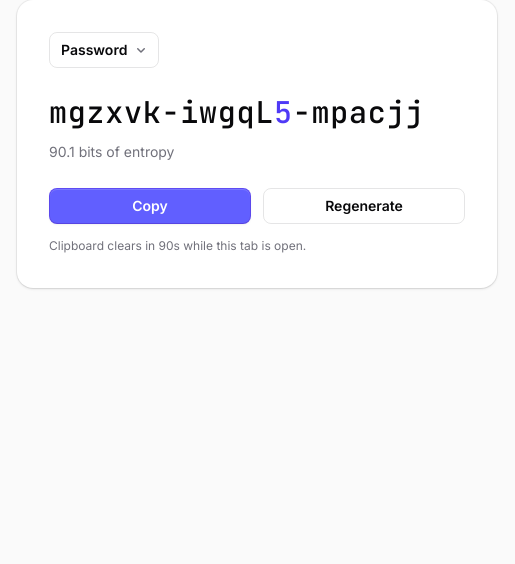
Scenario: GeneratorCard — Custom Password and Memorable controls › removes the option controls for Password
The image size is (515, 564).
Click the button with aria-label "Format:".
click(104, 50)  # box top-left (49, 32), bottom-right (159, 68)
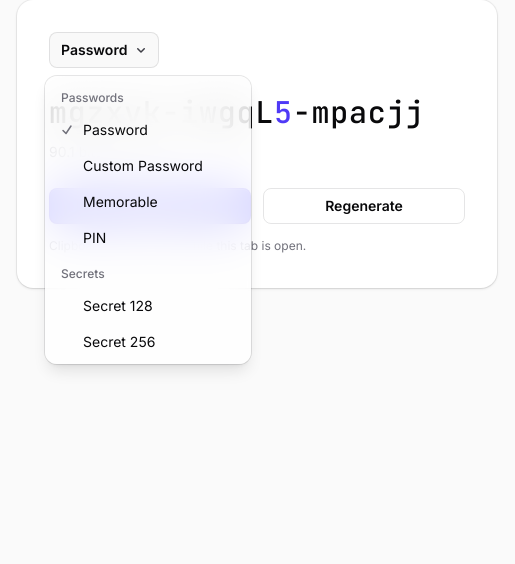
Click the menu item "Custom Password".
click(148, 166)  # box top-left (49, 148), bottom-right (247, 184)
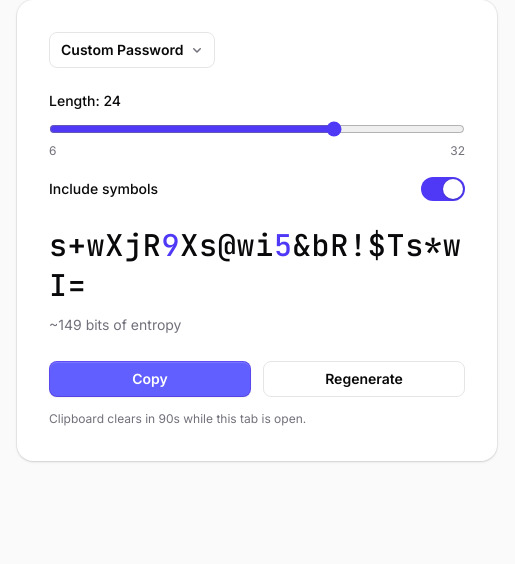
Click the button with aria-label "Format:".
click(132, 50)  # box top-left (49, 32), bottom-right (215, 68)
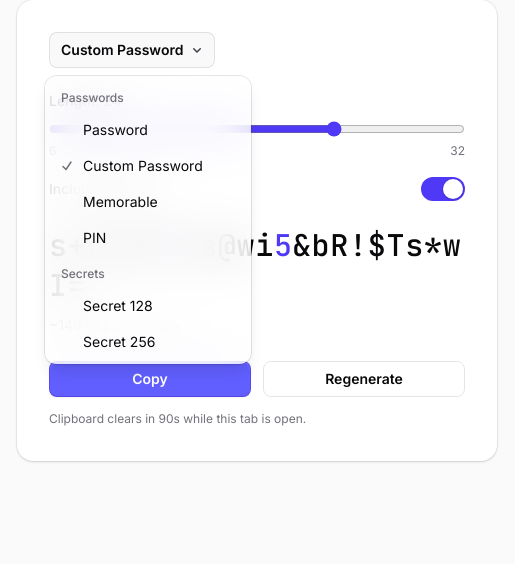
Click the menu item "Memorable".
click(148, 202)  # box top-left (49, 184), bottom-right (247, 220)
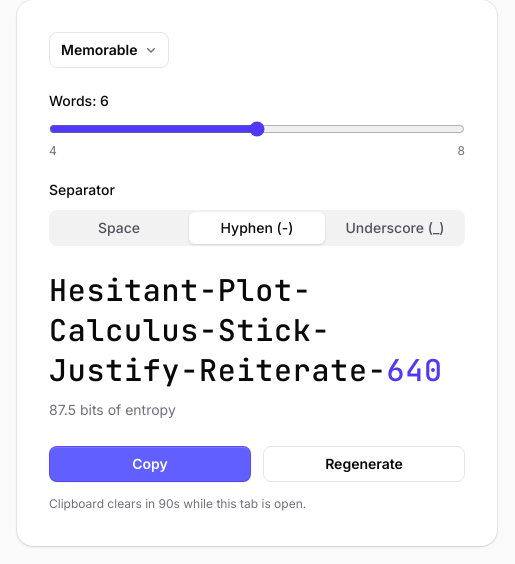
Click the button with aria-label "Format:".
click(109, 50)  # box top-left (49, 32), bottom-right (170, 68)
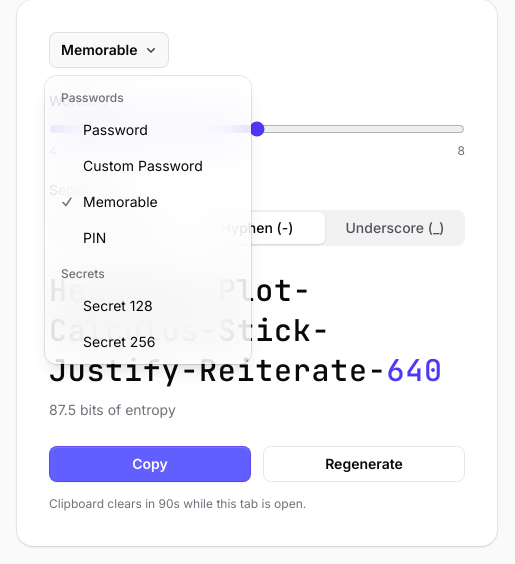
Click the menu item "Password".
click(148, 130)  # box top-left (49, 112), bottom-right (247, 148)
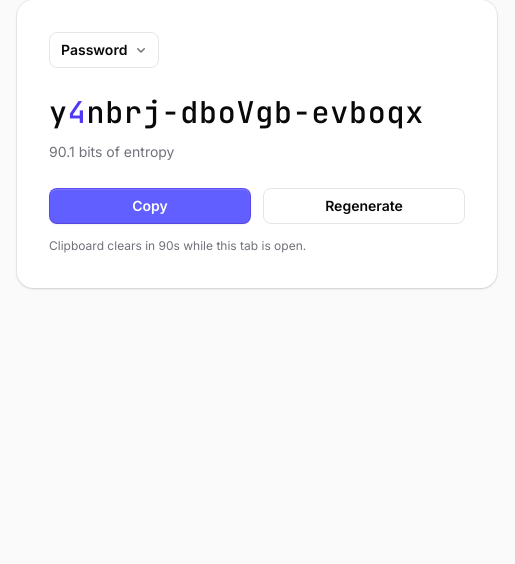
Result: the slider is gone
Result: the text "Separator" is gone
